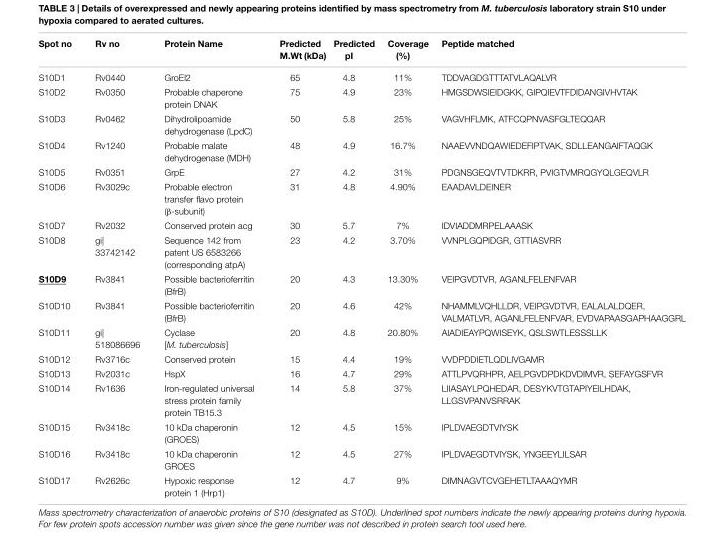table: (37, 37, 684, 497)
table column: (434, 37, 684, 497), (151, 37, 266, 497), (82, 37, 151, 497), (266, 37, 329, 497), (380, 37, 434, 497), (329, 37, 380, 497), (37, 37, 82, 497)
table column header: (37, 37, 684, 65)
table row: (37, 178, 684, 217), (37, 380, 684, 419), (37, 232, 684, 270), (37, 37, 684, 65), (37, 83, 684, 110), (37, 110, 684, 137), (37, 137, 684, 164), (37, 270, 684, 297), (37, 297, 684, 324), (37, 324, 684, 351), (37, 445, 684, 472), (37, 419, 684, 445), (37, 472, 684, 497), (37, 65, 684, 83), (37, 217, 684, 232), (37, 365, 684, 380), (37, 164, 684, 178), (37, 351, 684, 365)
